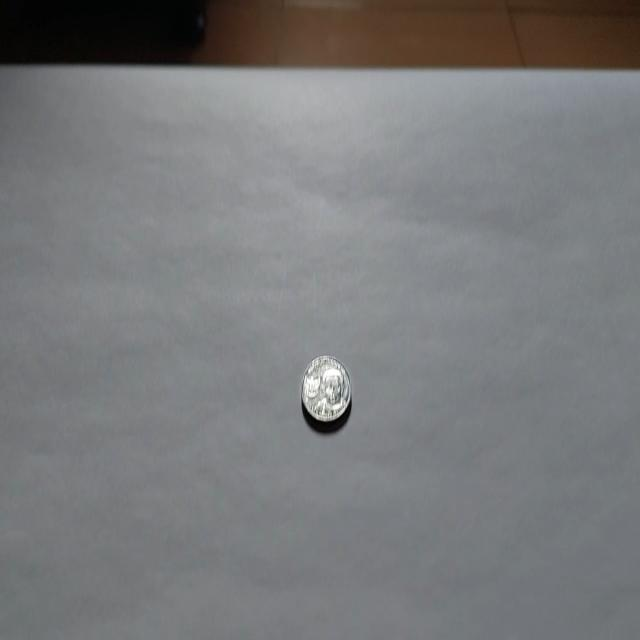seratus rupiah: (300, 353, 352, 426)
